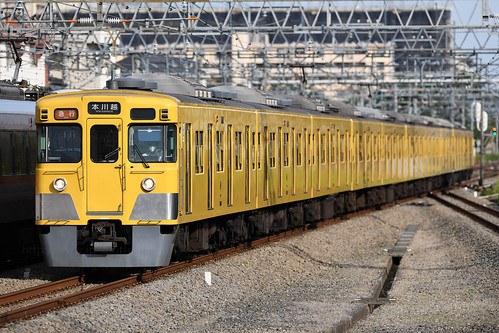train: (52, 103, 478, 284)
train track: (1, 257, 207, 333)
